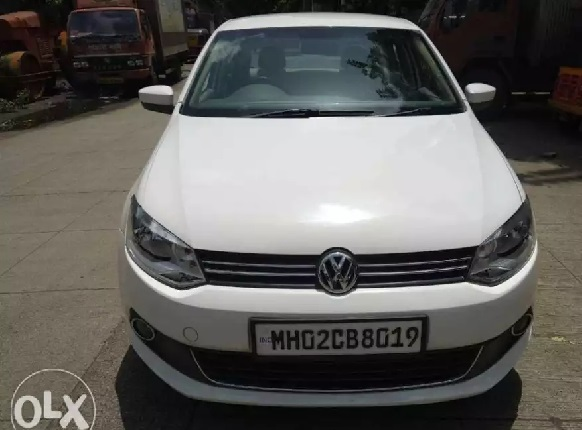licenseplate: (249, 315, 428, 358)
